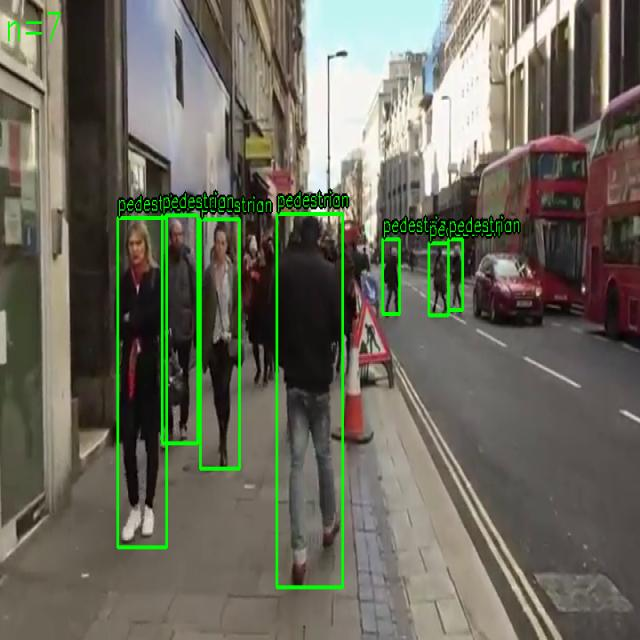with scooter: (277, 213, 343, 588), (117, 217, 167, 548), (200, 219, 240, 469), (162, 215, 198, 444), (428, 243, 449, 316), (382, 238, 400, 314), (448, 238, 463, 310)
